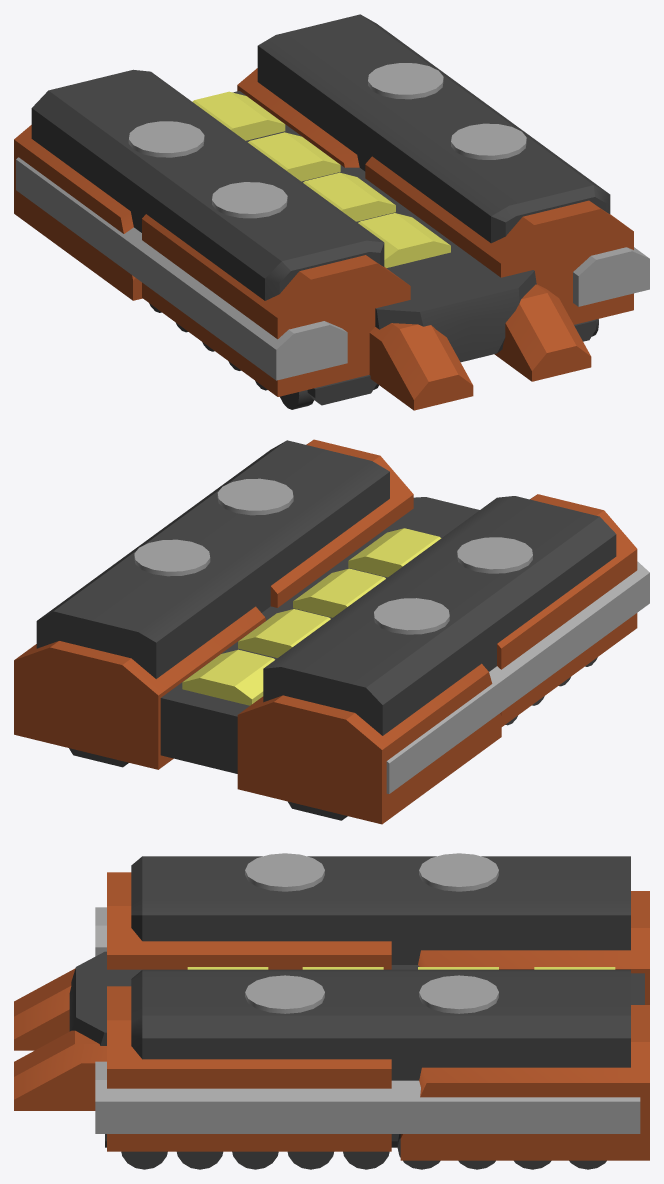
The model's file is SM_carriage_01.fbx.
3 renders of one model, top to bottom at view 1: azimuth 30°, elevation 25°; view 2: azimuth 150°, elevation 25°; view 3: azimuth 270°, elevation 25°, orthographic. The views are drawn at different scales.
Visible parts, largest first — view 1: SM_carriage_01; view 2: SM_carriage_01; view 3: SM_carriage_01.
Boxes of the visible parts, x1,y1,x2,y2 form: SM_carriage_01: (14, 14, 649, 410); SM_carriage_01: (14, 439, 649, 824); SM_carriage_01: (14, 853, 649, 1169).
Bounding box in the file's own units: 848 × 334 × 1193.
